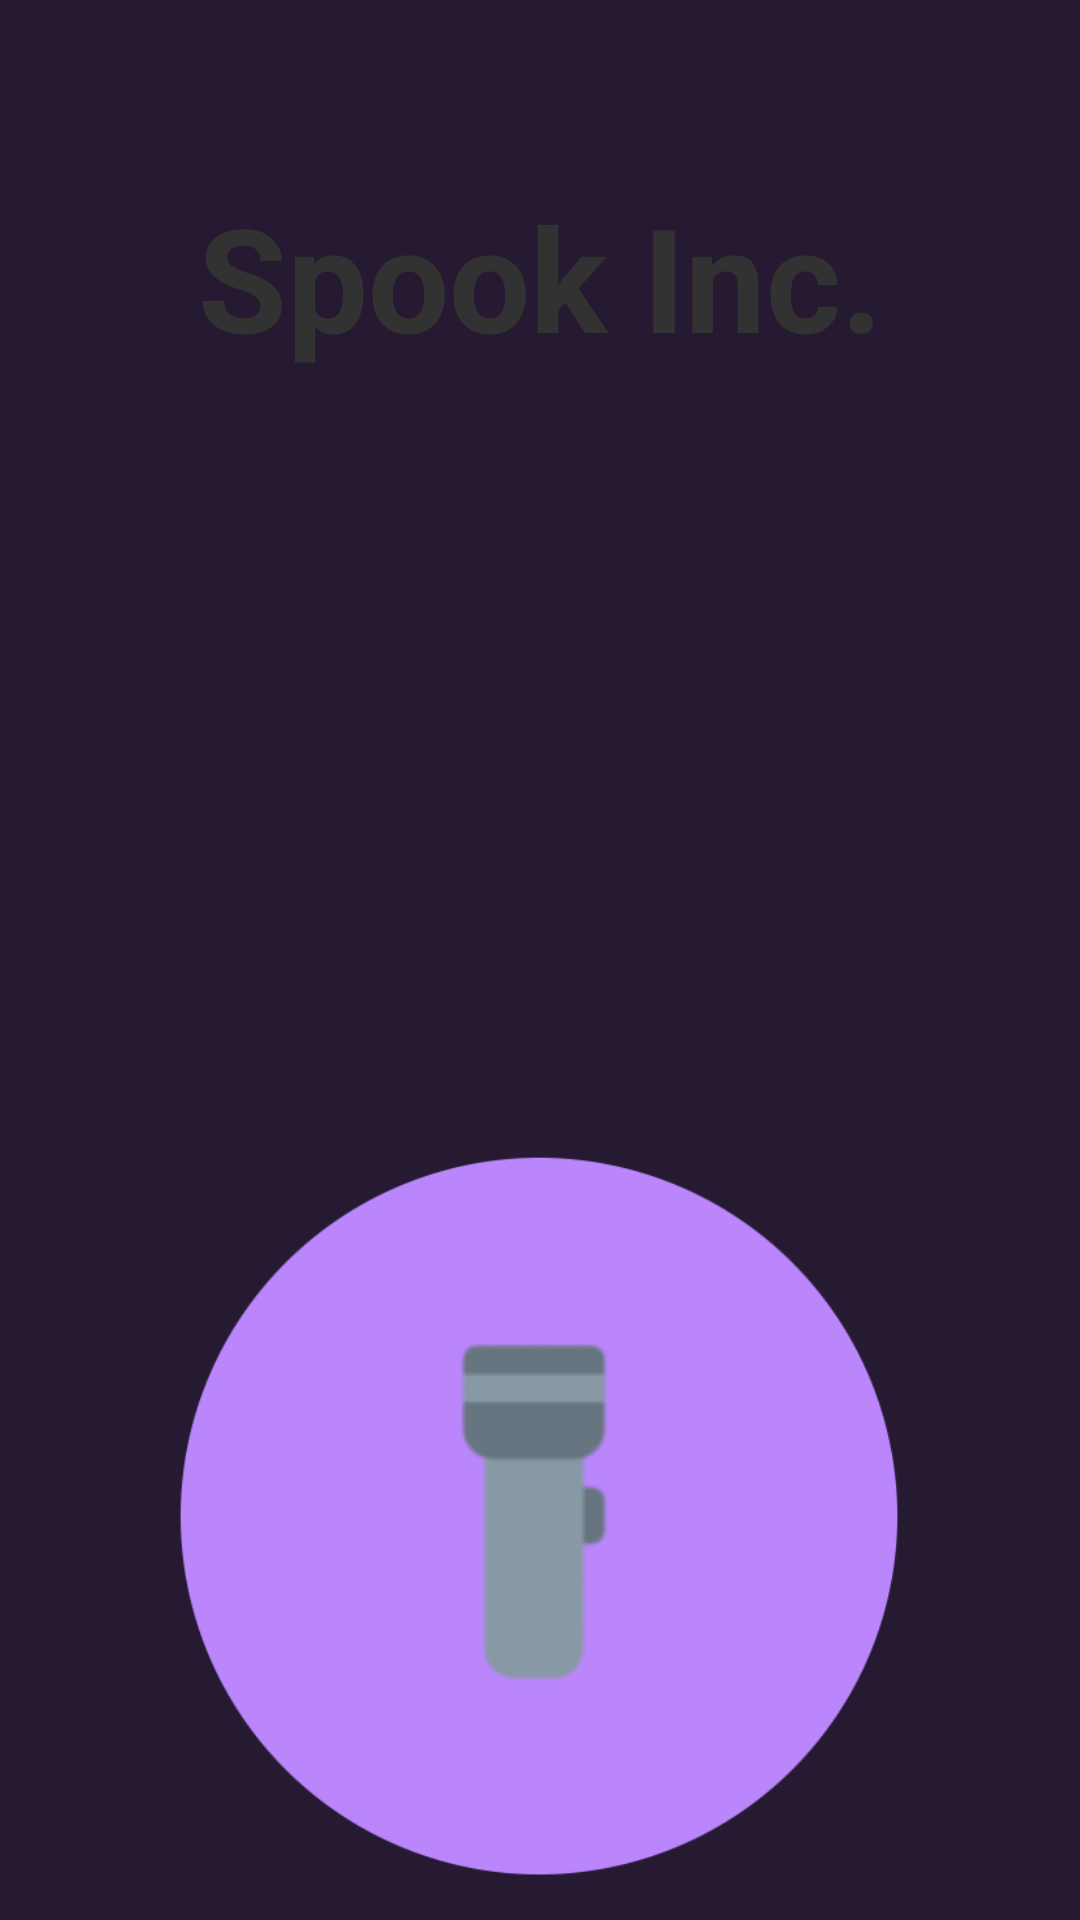

Icons on this 1080×1920 Android screen, each with its box as (x1, y1, x2, y2):
Flash light button: (461, 1344, 607, 1679)
